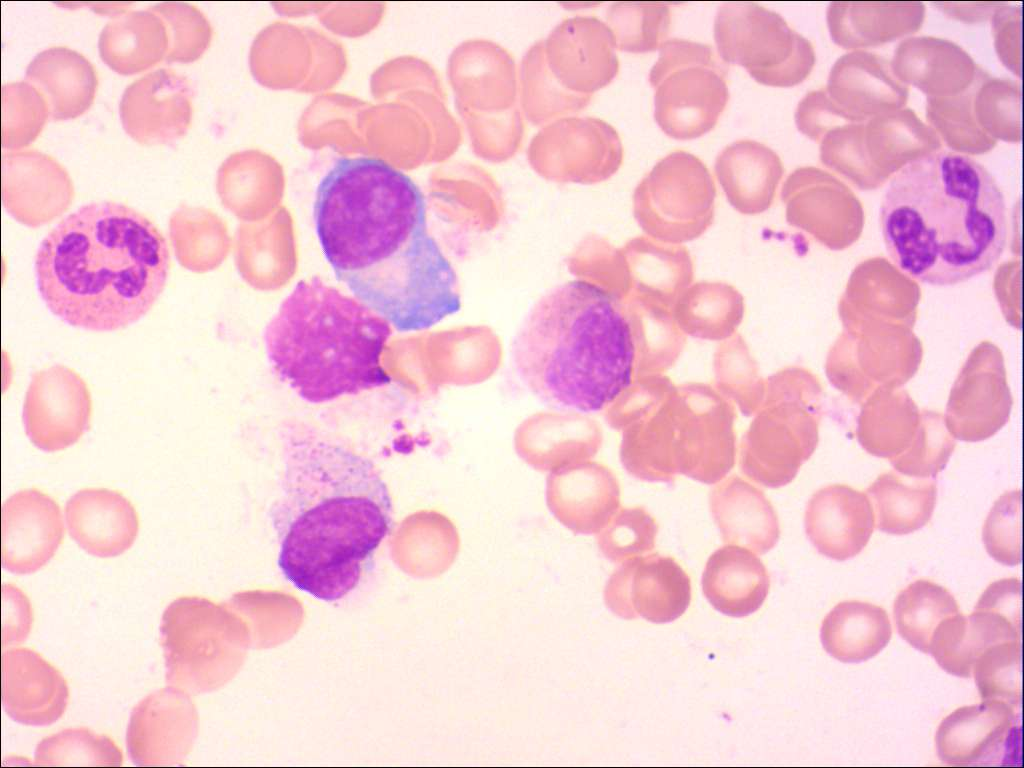3: (502, 274, 641, 421)
51: (308, 150, 464, 336)
6: (874, 147, 1012, 291), (31, 199, 173, 335)
x: (264, 415, 400, 616), (255, 271, 426, 425)
